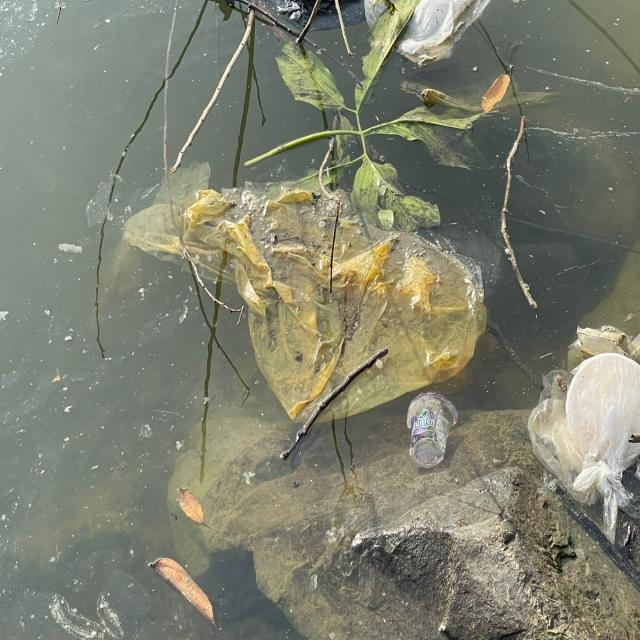Bungkus Minuman: (406, 390, 460, 472)
Kantong Plastik: (123, 176, 490, 425), (529, 352, 640, 539)
